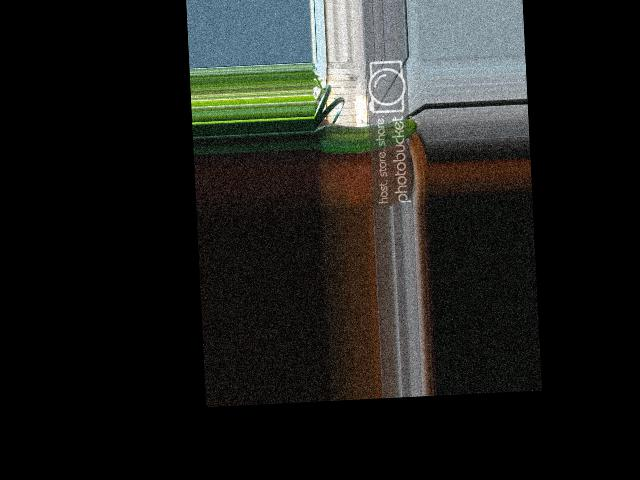cucumber: (315, 117, 422, 154)
